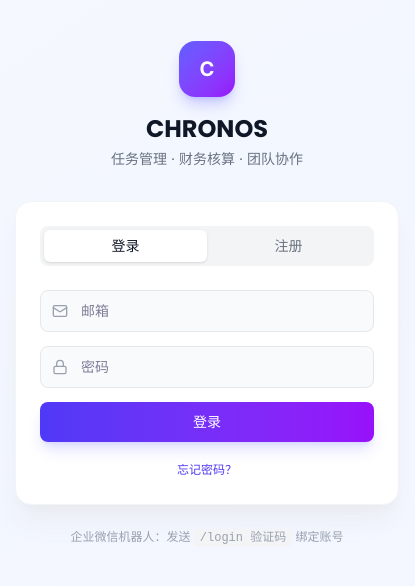
Test: LoginPage · 登录模式真实校验 › 非法邮箱被真实内联邮箱正则拦截, 不发起 mutation
The width and height of the screenshot is (415, 586).
Type "not-an-email" into the field with placeholder "邮箱" at x=207, y=310, box [40,290,374,332]
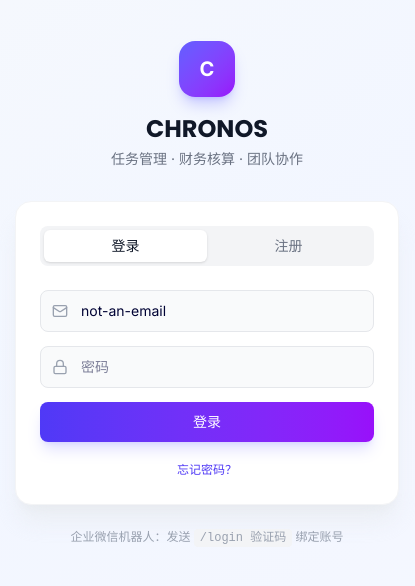
Type "whatever" into the password field with placeholder "密码" at x=207, y=366, box [40,346,374,388]
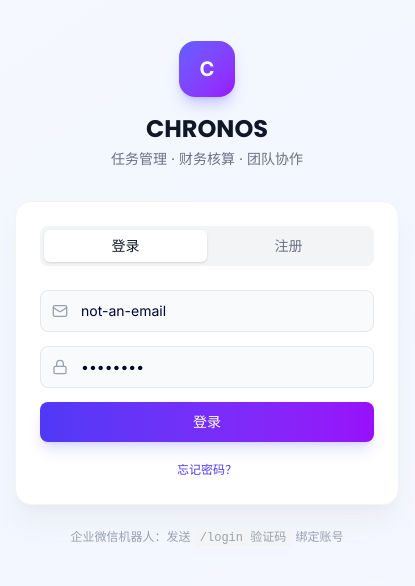
Submit the form, box [40,290,374,480]
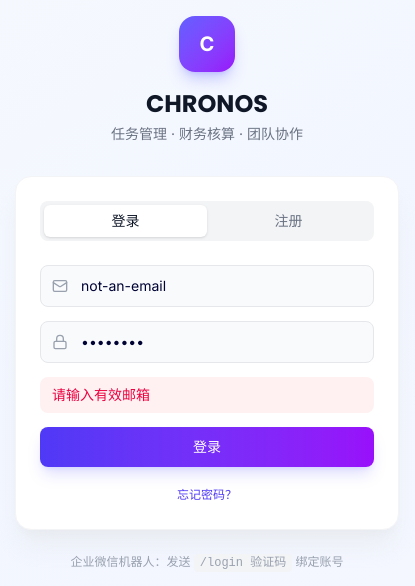
Result: the text "请输入有效邮箱" is shown at [52,384,150,404]
